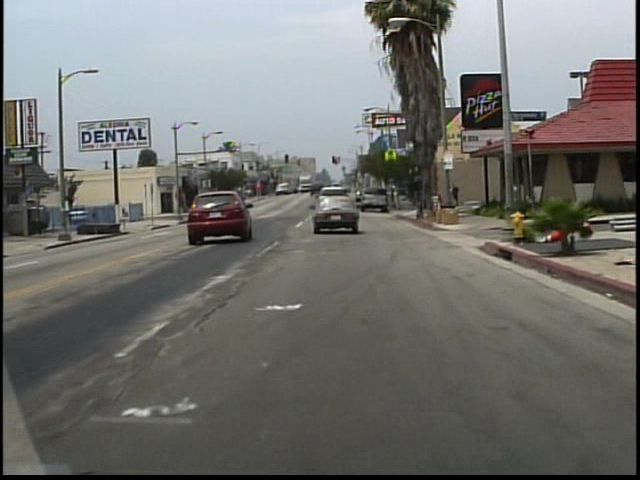person: (452, 183, 461, 209), (447, 185, 454, 209)
